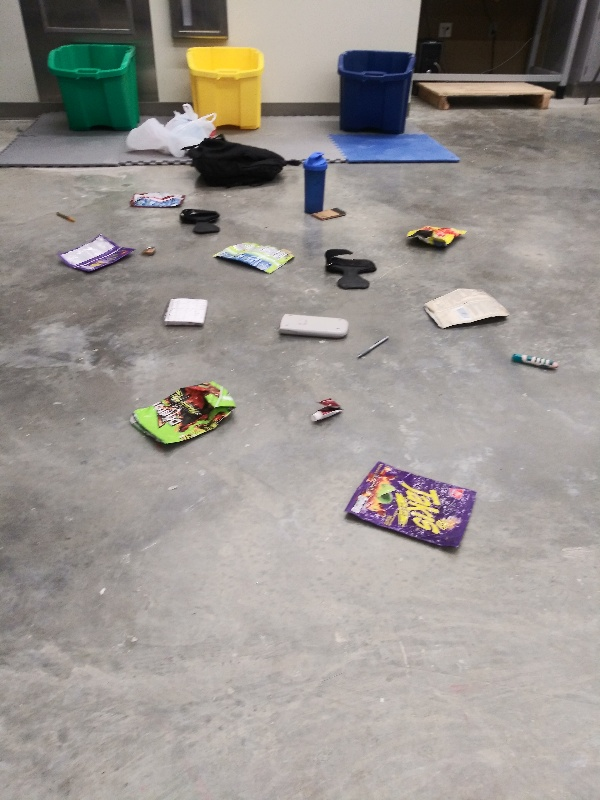bag: (339, 459, 481, 555), (124, 379, 238, 450), (417, 283, 513, 333), (53, 232, 137, 277), (206, 237, 300, 276), (402, 222, 470, 253), (124, 187, 190, 213)
